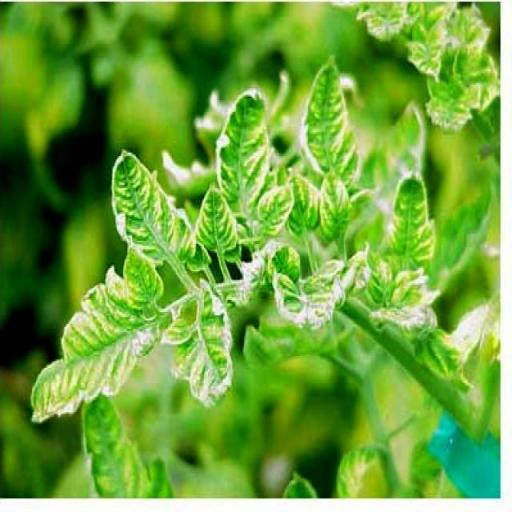disease_tomato: (28, 242, 166, 422), (106, 140, 198, 272), (214, 80, 286, 238), (76, 388, 176, 499), (298, 47, 366, 191), (164, 278, 232, 416), (382, 162, 438, 276)
